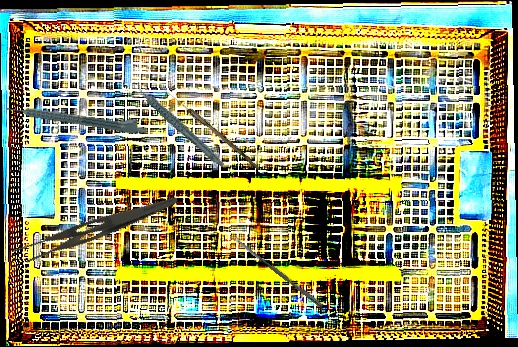Dressing Forceps: (10, 178, 180, 274)
Handpiece: (135, 67, 225, 181), (5, 98, 148, 136)
Surgical Spoon: (162, 88, 262, 170), (231, 234, 325, 309)
